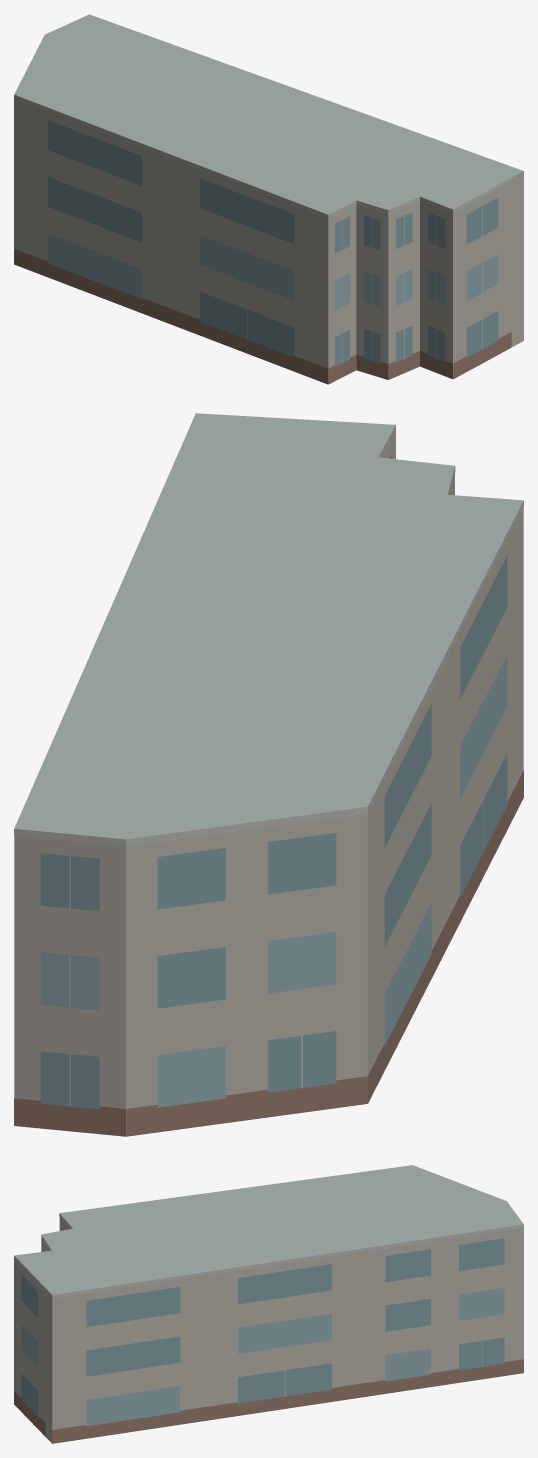
Rendered from survey-upis-32493535.glb.
3 views of the same model, one above another, from view 1: azimuth 30°, elevation 25°; view 2: azimuth 150°, elevation 25°; view 3: azimuth 270°, elevation 25° (orthographic). The views are drawn at different scales.
Parts seen in each view (by area): view 1: survey-upis-32493535.tmp; view 2: survey-upis-32493535.tmp; view 3: survey-upis-32493535.tmp.
Part boxes in pixels (x1,y1,x2,y2): survey-upis-32493535.tmp: (14,14,523,384); survey-upis-32493535.tmp: (14,413,523,1136); survey-upis-32493535.tmp: (14,1165,523,1443).
Bounding box in the file's own units: 19.25 × 10.27 × 31.91.
